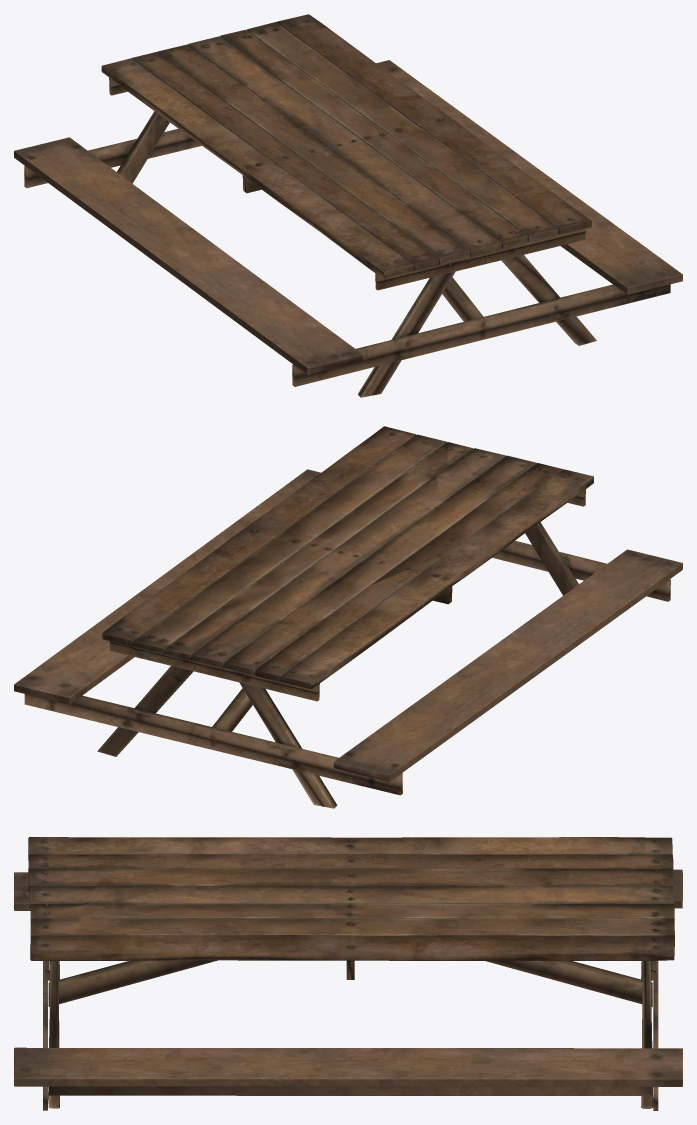
The model's file is scene-picnic.glb.
3 views of the same model, one above another, from view 1: azimuth 30°, elevation 25°; view 2: azimuth 150°, elevation 25°; view 3: azimuth 270°, elevation 25° (orthographic). The views are drawn at different scales.
Parts seen in each view (by area): view 1: wooden_picnic_table; view 2: wooden_picnic_table; view 3: wooden_picnic_table.
Part boxes in pixels (x1,y1,x2,y2): wooden_picnic_table: (14,14,682,397); wooden_picnic_table: (14,426,682,808); wooden_picnic_table: (14,837,682,1110).
Bounding box in the file's own units: 2.24 × 0.7453 × 3.02.
Materials: 2 (2 with a texture image).
